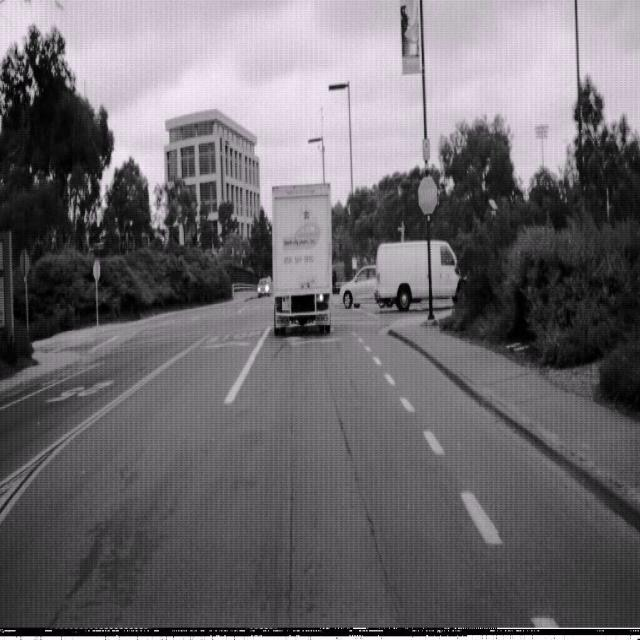stop_sign: (418, 174, 438, 215)
